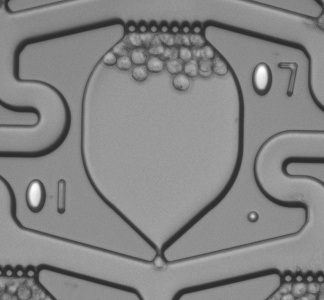AptNum: (247, 55, 303, 105)
Marker: (242, 205, 265, 227)
StNum: (21, 172, 72, 220)
